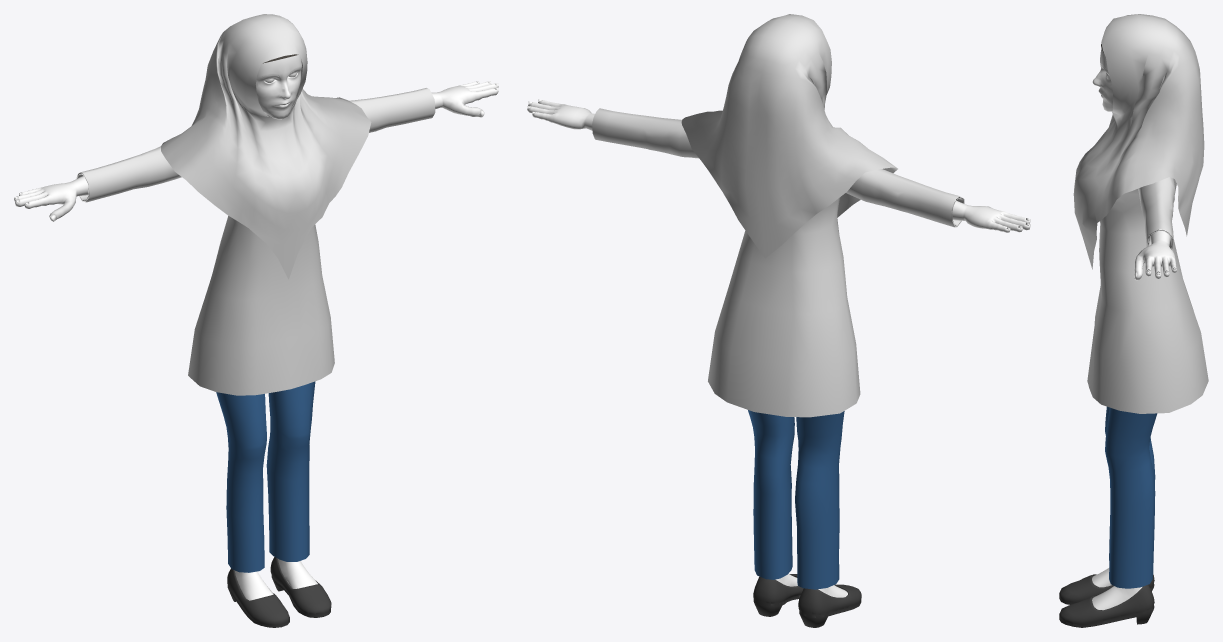
The model's file is Aisha.fbx.
The picture shows the model from 3 angles, left to right: view 1: azimuth 30°, elevation 25°; view 2: azimuth 150°, elevation 25°; view 3: azimuth 270°, elevation 25°; orthographic projection. The views are drawn at different scales.
Visible parts, largest first — view 1: Hijab, Kameez, Pants, Hands, Shoes, Face, Feet; view 2: Kameez, Hijab, Pants, Shoes, Hands; view 3: Kameez, Hijab, Pants, Shoes, Hands, Feet, Face.
Boxes of the visible parts, x1,y1,x2,y2 form: Hijab: (160, 14, 371, 279); Kameez: (76, 88, 435, 395); Pants: (216, 381, 315, 572); Hands: (14, 81, 498, 221); Shoes: (227, 557, 331, 627); Face: (255, 55, 301, 119); Feet: (234, 559, 317, 600); Kameez: (592, 108, 964, 417); Hijab: (681, 14, 897, 258); Pants: (748, 410, 844, 589); Shoes: (753, 574, 861, 627); Hands: (527, 99, 1030, 232); Kameez: (1087, 177, 1208, 413); Hijab: (1073, 14, 1204, 269); Pants: (1105, 406, 1157, 588); Shoes: (1059, 574, 1154, 627); Hands: (1134, 230, 1176, 280); Feet: (1092, 568, 1142, 610); Face: (1092, 48, 1113, 111).
Size of the model in its own units: 4.85 by 5.51 by 1.26.
